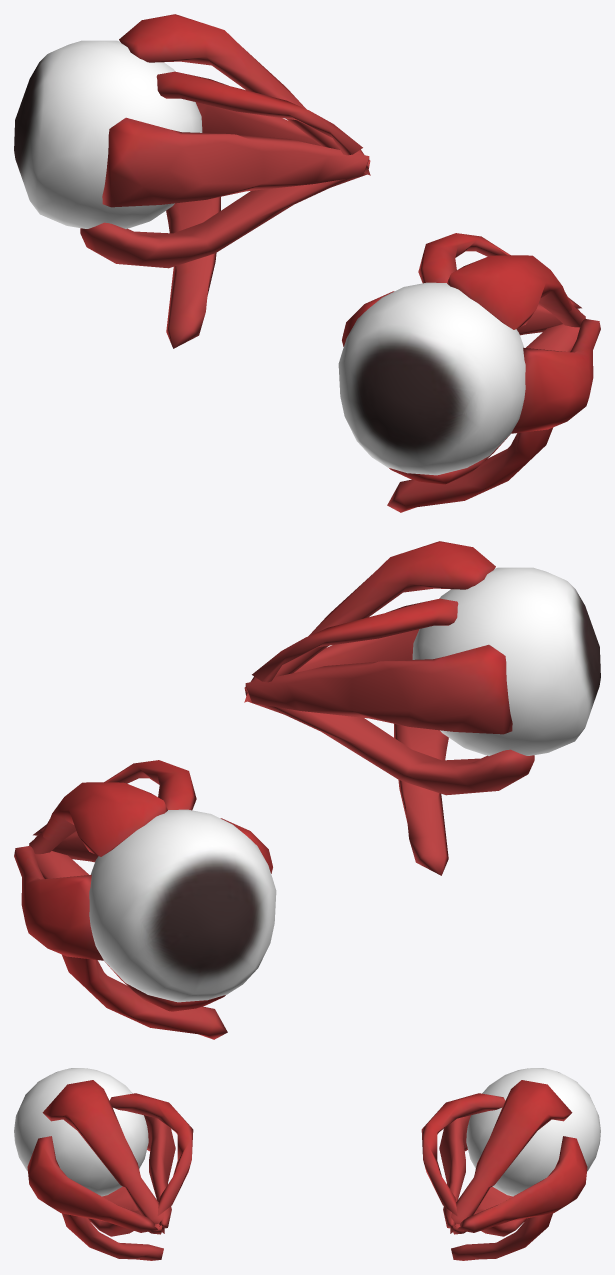
The model's file is eyes_optical_muscles.glb.
The picture shows the model from 3 angles, top to bottom: view 1: azimuth 30°, elevation 25°; view 2: azimuth 150°, elevation 25°; view 3: azimuth 270°, elevation 25°; orthographic projection. The views are drawn at different scales.
Visible parts, largest first — view 1: optical_muscles, eyes; view 2: optical_muscles, eyes; view 3: optical_muscles, eyes.
Boxes of the visible parts, bbox=[...] form: optical_muscles: bbox=[80, 14, 600, 512]; eyes: bbox=[14, 40, 525, 475]; optical_muscles: bbox=[14, 541, 534, 1039]; eyes: bbox=[89, 567, 600, 1002]; optical_muscles: bbox=[27, 1080, 587, 1260]; eyes: bbox=[14, 1068, 600, 1196].
Size of the model in its own units: 0.0751 by 0.0687 by 0.1924.
2 materials, 2 textured.
